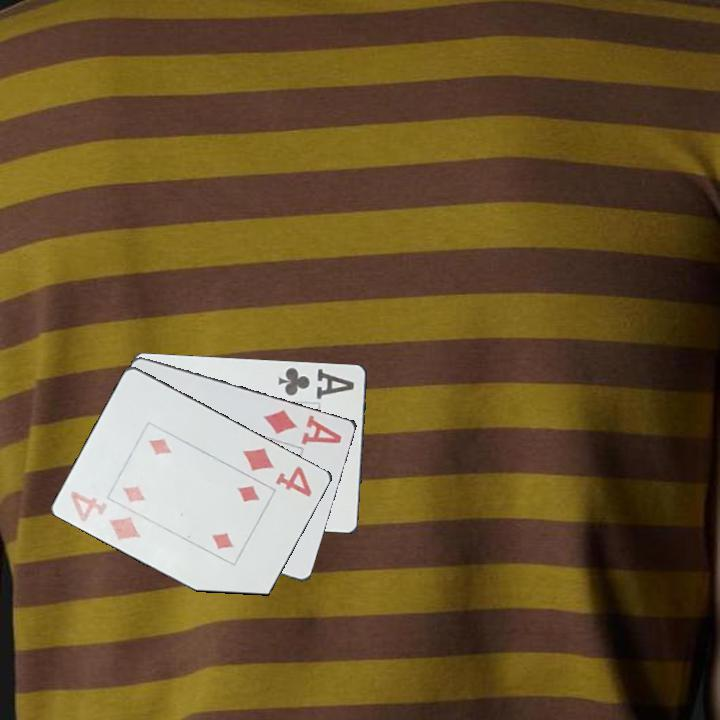4d: (239, 443, 315, 500), (67, 487, 144, 543)
Ac: (275, 362, 357, 402)
Ad: (260, 405, 345, 448)
